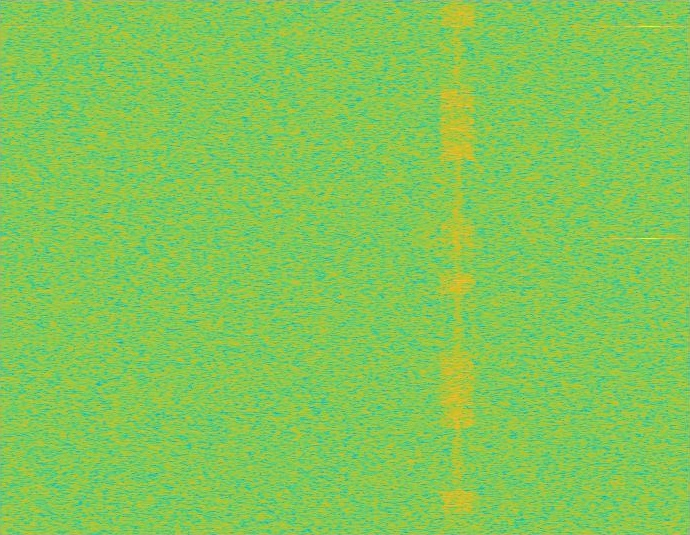DSSS: (454, 0, 462, 534)
LTE: (440, 0, 475, 534)
Radar: (642, 0, 656, 534)
